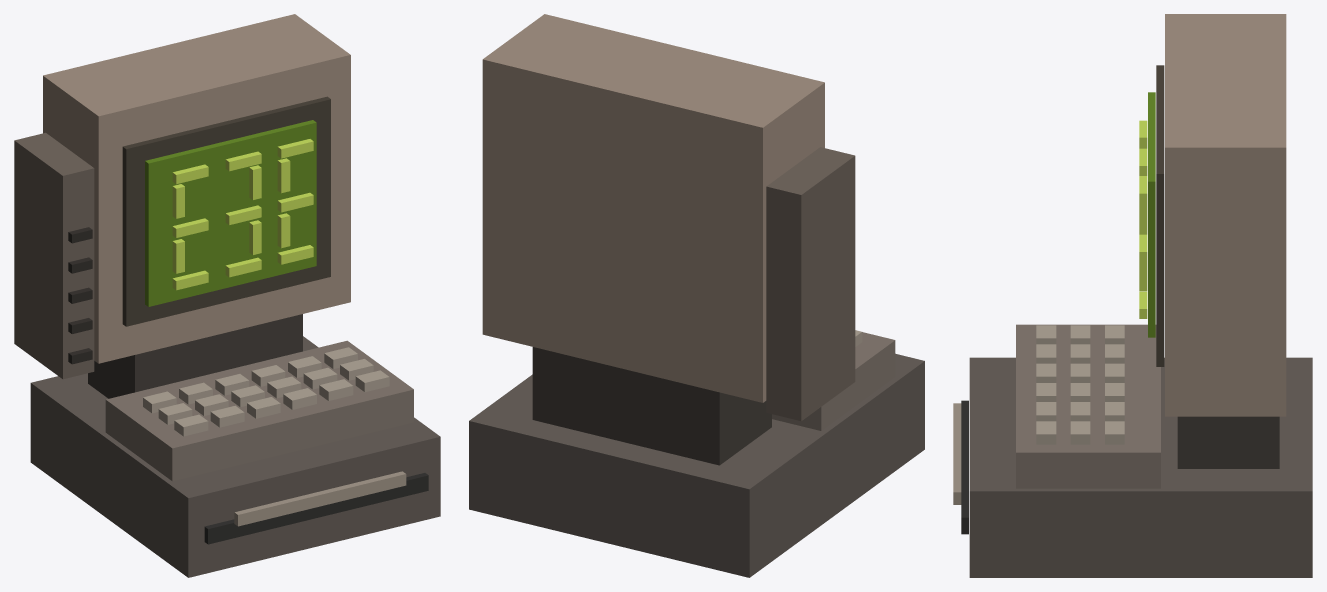
File: CMU3DCashRegister.glb
The picture shows the model from 3 angles, left to right: view 1: azimuth 30°, elevation 25°; view 2: azimuth 150°, elevation 25°; view 3: azimuth 270°, elevation 25°; orthographic projection. The views are drawn at different scales.
Parts seen in each view (by area): view 1: raised screen case, register drawer, green register display, register keyboard plinth, receipt printer housing, screen dark rim, screen pedestal, cashier keypad (×6), drawer seam, drawer pull; view 2: raised screen case, register drawer, receipt printer housing, screen pedestal, register keyboard plinth; view 3: raised screen case, register drawer, register keyboard plinth, screen pedestal, screen dark rim, green register display, cashier keypad (×3), drawer seam, drawer pull.
Part boxes in pixels (x1=…): raised screen case: x1=43, y1=14, x2=350, y2=363; register drawer: x1=30, y1=336, x2=440, y2=577; green register display: x1=145, y1=120, x2=316, y2=306; register keyboard plinth: x1=105, y1=340, x2=413, y2=481; receipt printer housing: x1=14, y1=132, x2=94, y2=379; screen dark rim: x1=122, y1=96, x2=330, y2=326; screen pedestal: x1=88, y1=314, x2=302, y2=398; cashier keypad (×6): x1=174, y1=370, x2=389, y2=436; drawer seam: x1=204, y1=473, x2=428, y2=544; drawer pull: x1=234, y1=471, x2=406, y2=526; raised screen case: x1=482, y1=14, x2=824, y2=402; register drawer: x1=469, y1=353, x2=924, y2=577; receipt printer housing: x1=766, y1=147, x2=855, y2=421; screen pedestal: x1=532, y1=347, x2=771, y2=465; register keyboard plinth: x1=772, y1=332, x2=895, y2=430; raised screen case: x1=1165, y1=14, x2=1286, y2=416; register drawer: x1=969, y1=357, x2=1312, y2=577; register keyboard plinth: x1=1016, y1=324, x2=1160, y2=488; screen pedestal: x1=1177, y1=416, x2=1279, y2=468; screen dark rim: x1=1156, y1=65, x2=1164, y2=366; green register display: x1=1148, y1=92, x2=1155, y2=337; cashier keypad (×3): x1=1036, y1=421, x2=1124, y2=444; drawer seam: x1=961, y1=400, x2=968, y2=534; drawer pull: x1=953, y1=403, x2=961, y2=504.
Bounding box in the file's own units: 0.54 × 0.72 × 0.545.
